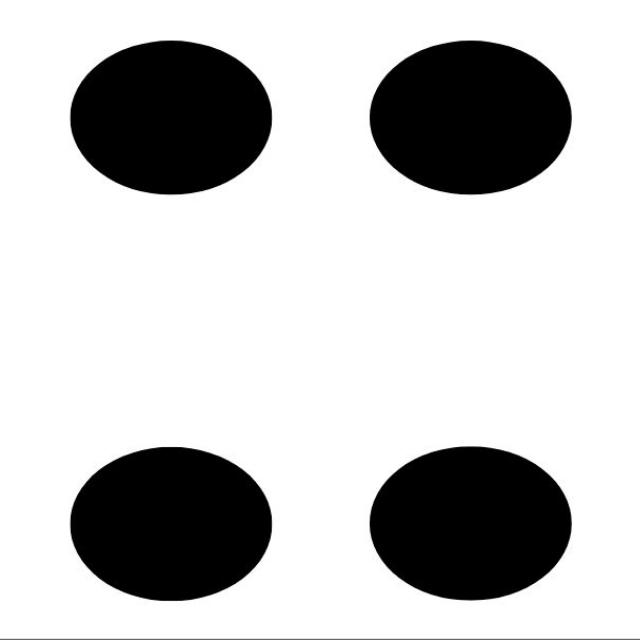letter_x: (66, 39, 573, 602)
